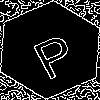P: (25, 25, 81, 81)
